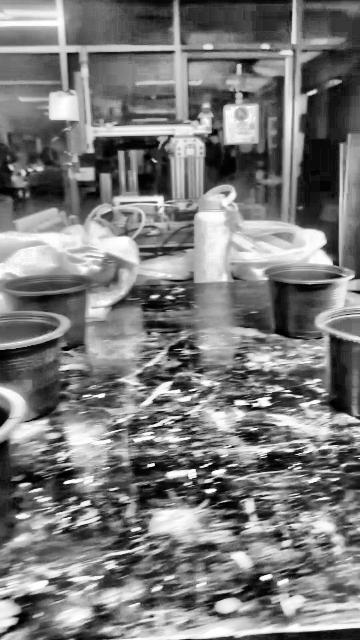pot: (0, 311, 69, 421), (263, 264, 356, 337), (3, 274, 89, 348), (316, 307, 359, 417), (0, 387, 25, 545)
